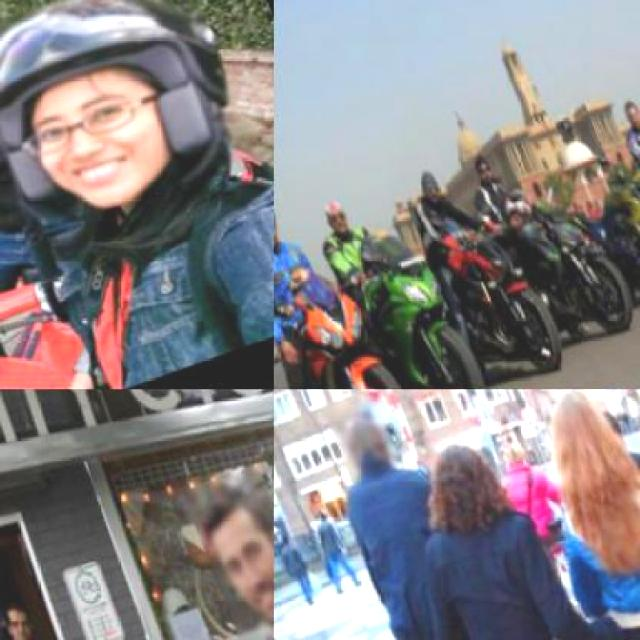With Helmet: (0, 0, 262, 242)
Without Helmet: (180, 458, 272, 638), (415, 414, 517, 546), (524, 389, 638, 498), (323, 389, 405, 486), (465, 144, 498, 188), (412, 162, 443, 202), (317, 193, 348, 233), (616, 88, 638, 130), (274, 192, 288, 250)
